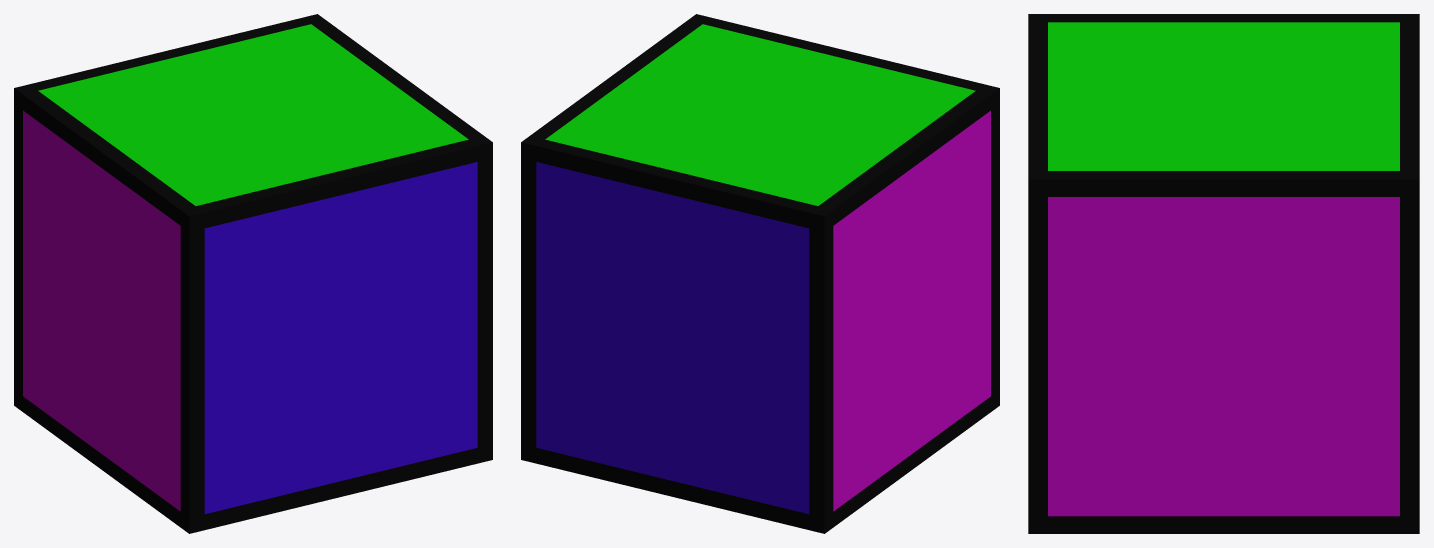
File: tfx80.obj
3 renders of one model, left to right at view 1: azimuth 30°, elevation 25°; view 2: azimuth 150°, elevation 25°; view 3: azimuth 270°, elevation 25°, orthographic. The views are drawn at different scales.
Parts seen in each view (by area): view 1: Cube; view 2: Cube; view 3: Cube.
Boxes of the visible parts, x1,y1,x2,y2 form: Cube: (14,14,492,533); Cube: (521,14,999,533); Cube: (1028,14,1419,533).
Bounding box in the file's own units: 2 × 2 × 2.
